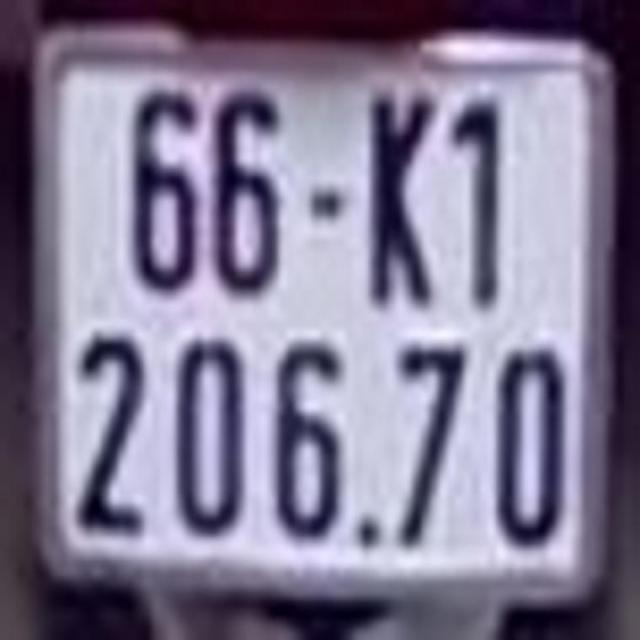0: (490, 338, 568, 545), (177, 336, 241, 530)
1: (459, 97, 503, 306)
2: (68, 334, 166, 548)
6: (264, 337, 342, 537), (212, 87, 280, 290), (138, 81, 201, 289)
7: (386, 324, 464, 542)
K: (358, 97, 445, 304)
